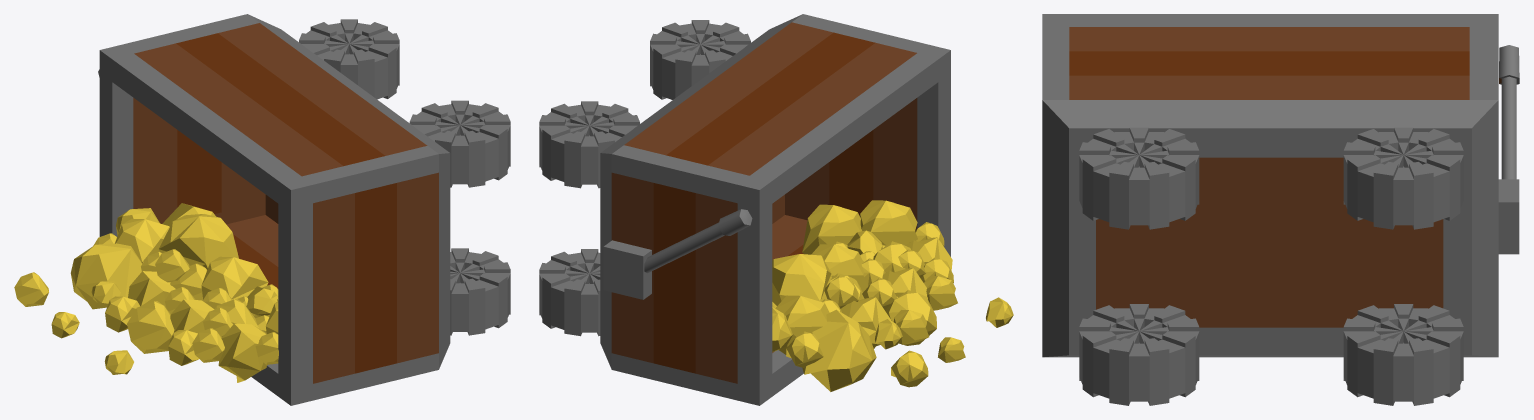
Rendered from chariot or.FBX.
The picture shows the model from 3 angles, left to right: view 1: azimuth 30°, elevation 25°; view 2: azimuth 150°, elevation 25°; view 3: azimuth 270°, elevation 25°; orthographic projection. The views are drawn at different scales.
Parts seen in each view (by area): view 1: Box046, Sphere012, Sphere009, Sphere015, Sphere032, Sphere010, Sphere019, Sphere011, Sphere022, Sphere042, Sphere038, Sphere035 (+12 smaller); view 2: Box046, Sphere012, Sphere009, Sphere016, Sphere027, Sphere019, Sphere015, Sphere011, Sphere010, Sphere042, Sphere033, Sphere038 (+14 smaller); view 3: Box046.
Part boxes in pixels (x1,y1,x2,y2): Box046: (98, 14, 510, 405); Sphere012: (70, 243, 142, 309); Sphere009: (159, 214, 238, 269); Sphere015: (201, 256, 268, 299); Sphere032: (218, 323, 267, 382); Sphere010: (127, 301, 174, 353); Sphere019: (115, 218, 169, 263); Sphere011: (128, 271, 175, 307); Sphere022: (170, 299, 214, 340); Sphere042: (14, 272, 48, 306); Sphere038: (105, 296, 139, 332); Sphere035: (192, 328, 224, 362); Box046: (539, 14, 950, 405); Sphere012: (802, 309, 876, 391); Sphere009: (772, 254, 831, 305); Sphere016: (802, 204, 861, 254); Sphere027: (860, 200, 917, 245); Sphere019: (775, 295, 829, 354); Sphere015: (811, 244, 867, 292); Sphere011: (840, 297, 890, 348); Sphere010: (885, 290, 936, 345); Sphere042: (891, 350, 928, 387); Sphere033: (786, 331, 823, 367); Sphere038: (893, 310, 929, 344); Box046: (1042, 14, 1519, 405).
Size of the model in its own units: 250 by 138 by 229.
